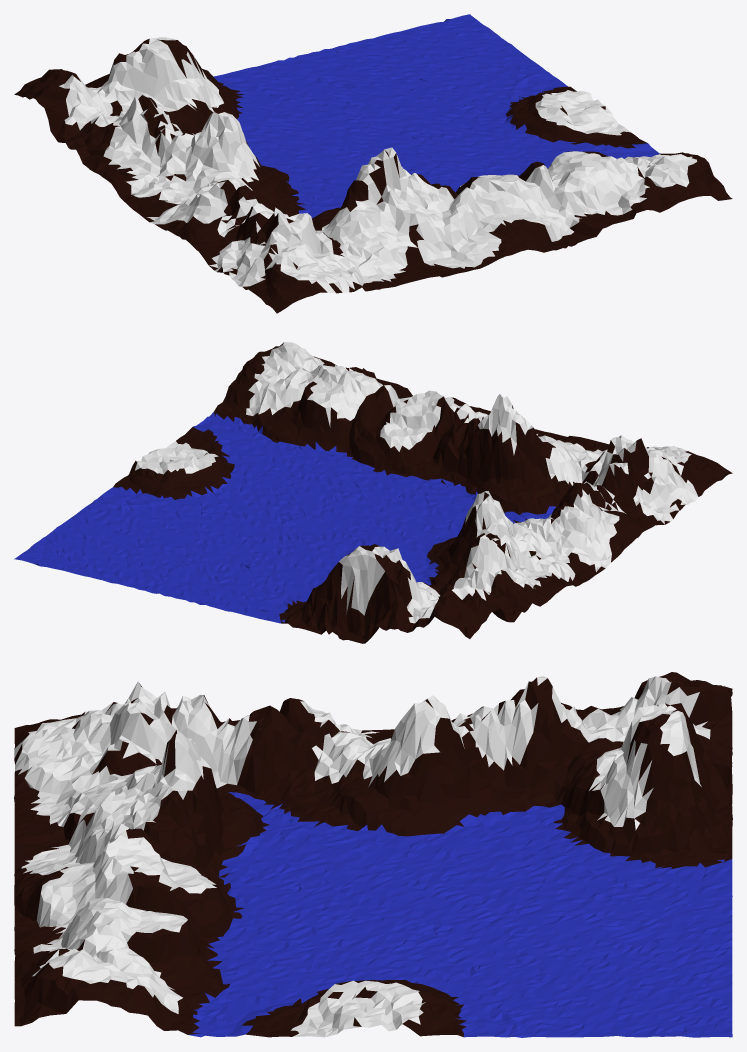
The picture shows the model from 3 angles, top to bottom: view 1: azimuth 30°, elevation 25°; view 2: azimuth 150°, elevation 25°; view 3: azimuth 270°, elevation 25°; orthographic projection. The views are drawn at different scales.
Visible parts, largest first — view 1: 1; view 2: 1; view 3: 1.
Part boxes in pixels (left/top/right/bottom): 1: left=14, top=14, right=732, bottom=313; 1: left=14, top=342, right=732, bottom=643; 1: left=14, top=672, right=732, bottom=1037.
Size of the model in its own units: 50135 by 9019 by 50095.
